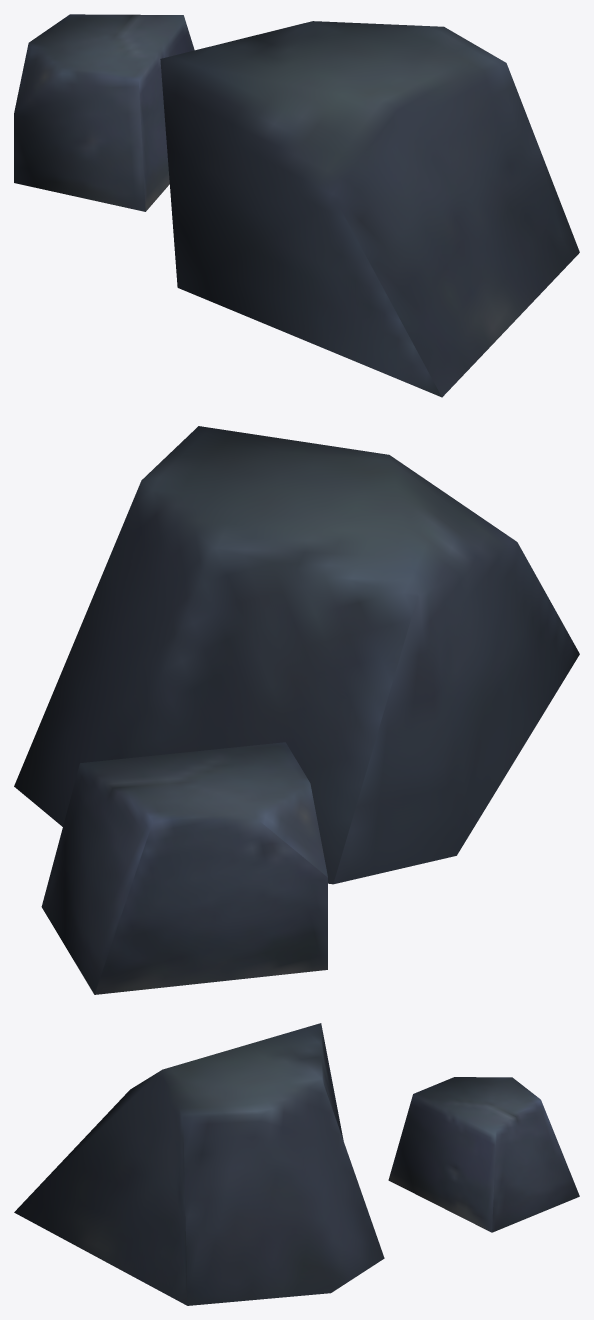
The model's file is Area_03_12.fbx.
3 renders of one model, top to bottom at view 1: azimuth 30°, elevation 25°; view 2: azimuth 150°, elevation 25°; view 3: azimuth 270°, elevation 25°, orthographic. The views are drawn at different scales.
Visible parts, largest first — view 1: Area_03_12; view 2: Area_03_12; view 3: Area_03_12.
Boxes of the visible parts, left/top/right/bottom form: Area_03_12: left=14, top=14, right=579, bottom=397; Area_03_12: left=14, top=426, right=579, bottom=994; Area_03_12: left=14, top=1023, right=579, bottom=1305.
Size of the model in its own units: 301 by 163 by 522.
